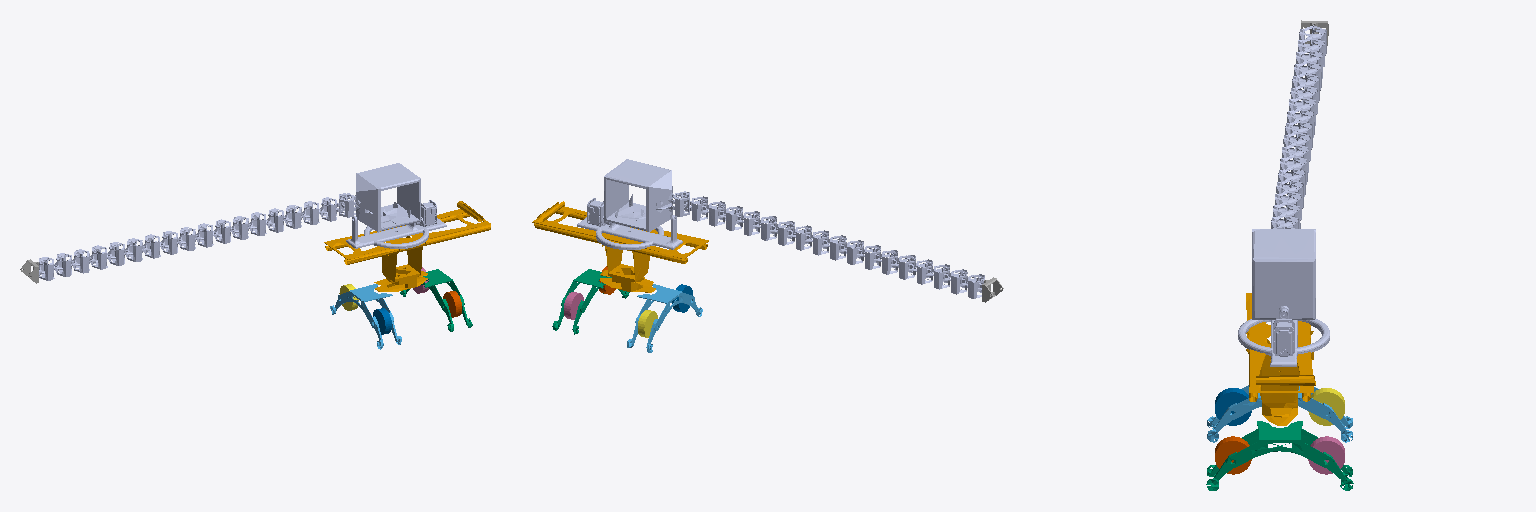
--- Facts derived from the render (not from the file) ---
The picture shows the robot from 3 angles, left to right: view 1: azimuth 30°, elevation 25°; view 2: azimuth 150°, elevation 25°; view 3: azimuth 270°, elevation 25°; orthographic projection.
Model prisma_snake with 31 links and 30 joints (20 revolute, 5 continuous, 5 fixed), rooted at uav_link, posed every joint at zero.
Links seen in each view (by area): view 1: uav_link, LMotor, LFrame, Rover_1, Rover_2; view 2: uav_link, LMotor, LFrame, Rover_1, Rover_2; view 3: LMotor, uav_link, Rover_2, LFrame, Rover_1, Wheel_sx_1, Wheel_dx_2, Wheel_sx_2, Wheel_dx_1.
Link boxes in pixels (<box>): uav_link: <box>324,201,490,291</box>; LMotor: <box>355,163,420,232</box>; LFrame: <box>346,200,446,248</box>; Rover_1: <box>330,284,401,349</box>; Rover_2: <box>400,269,472,331</box>; uav_link: <box>532,201,708,292</box>; LMotor: <box>604,159,672,231</box>; LFrame: <box>577,198,682,249</box>; Rover_1: <box>627,284,702,352</box>; Rover_2: <box>552,269,629,334</box>; LMotor: <box>1252,229,1315,319</box>; uav_link: <box>1246,293,1315,425</box>; Rover_2: <box>1206,421,1353,490</box>; LFrame: <box>1238,306,1329,366</box>; Rover_1: <box>1207,385,1352,442</box>; Wheel_sx_1: <box>1215,388,1251,425</box>; Wheel_dx_2: <box>1308,436,1344,474</box>; Wheel_sx_2: <box>1215,436,1251,474</box>; Wheel_dx_1: <box>1308,388,1344,425</box>.
Bounding box of the posed robot: 1.37 × 0.2765 × 0.4319 m (x, y, z).
Meshes: 10 distinct files referenced, 25 mesh visuals loaded (9 binary STL); not drawn: 1 (reference not matched to a file when rendering).

robot.urdf — prisma_snake:
<?xml version="1.0" encoding="utf-8"?>
<!-- =================================================================================== -->
<!-- |    This document was autogenerated by xacro from prisma_snake.xacro             | -->
<!-- |    EDITING THIS FILE BY HAND IS NOT RECOMMENDED                                 | -->
<!-- =================================================================================== -->
<!--Generates a urdf from the macro in kr120r2500pro_macro.xacro -->
<robot name="prisma_snake">
  <gazebo reference="camera_rgb_frame">
    <sensor name="$depth_camera" type="depth">
      <always_on>true</always_on>
      <update_rate>5.0</update_rate>
      <camera>
        <horizontal_fov>1.04</horizontal_fov>
        <!-- fov = filed of view 1.04-->
        <image>
          <format>L8</format>
          <width>320</width>
          <height>240</height>
        </image>
        <clip>
          <near>0.1</near>
          <far>2</far>
        </clip>
      </camera>
      <plugin filename="libgazebo_ros_openni_kinect.so" name="depth_camera_plugin">
        <alwaysOn>true</alwaysOn>
        <baseline>0.2</baseline>
        <updateRate>5.0</updateRate>
        <cameraName>depth_camera</cameraName>
        <imageTopicName>depth_camera/image_raw</imageTopicName>
        <cameraInfoTopicName>depth_camera/camera_info</cameraInfoTopicName>
        <depthImageTopicName>depth/disparity</depthImageTopicName>
        <depthImageCameraInfoTopicName>depth/camera_info</depthImageCameraInfoTopicName>
        <pointCloudTopicName>depth/points</pointCloudTopicName>
        <frameName>camera_rgb_optical_frame</frameName>
        <pointCloudCutoff>0.5</pointCloudCutoff>
        <pointCloudCutoffMax>3.0</pointCloudCutoffMax>
        <distortionK1>0.0</distortionK1>
        <distortionK2>0.0</distortionK2>
        <distortionK3>0.0</distortionK3>
        <distortionT1>0.0</distortionT1>
        <distortionT2>0.0</distortionT2>
      </plugin>
    </sensor>
  </gazebo>
  <!-- in kg-->
  <!-- in kg-->
  <!-- LINKS -->
  <!-- base link-->
  <!--
	<link name="world" />
 	-->
  <link name="uav_link">
    <inertial>
      <!--
		<origin rpy="0 0 0" xyz="0.2979303555193108 2.625110129346654e-07 0.31875747926595327"/>
		-->
      <origin rpy="0 0 0" xyz="0 0 0"/>
      <mass value="2.8"/>
      <inertia ixx="0.108" ixy="0.0" ixz="0.0" iyy="0.108" iyz="0.0" izz="0.108"/>
    </inertial>
    <visual>
      <origin rpy="0 0 0" xyz="0 0 0"/>
      <geometry>
        <mesh filename="package://prisma_snake_support_gazebo/meshes/drone_no_prop_no_sup_cu.stl" scale="0.0001 0.0001 0.0001"/>
      </geometry>
      <material name="silver"/>
    </visual>
    <collision>
      <origin rpy="0 0 0" xyz="0 0 0"/>
      <geometry>
        <mesh filename="package://prisma_snake_support_gazebo/meshes/drone_no_prop_no_sup_cu.stl" scale="0.0001 0.0001 0.0001"/>
      </geometry>
    </collision>
  </link>
  <link name="Rover_1">
    <inertial>
      <origin rpy="0 0 0" xyz="0 0 0"/>
      <mass value="1.2"/>
      <inertia ixx="0.01" ixy="0.0" ixz="0" iyy="0.01" iyz="0" izz="0.01"/>
    </inertial>
    <visual>
      <origin rpy="0 0 0" xyz="-0.2506 0.0 -0.1755"/>
      <geometry>
        <mesh filename="package://prisma_snake_support_gazebo/meshes/Rover_1_cu.stl" scale="0.001 0.001 0.001"/>
      </geometry>
      <material name="silver"/>
    </visual>
    <collision>
      <origin rpy="0 0 0" xyz="-0.2506 0.0 -0.1755"/>
      <geometry>
        <mesh filename="package://prisma_snake_support_gazebo/meshes/Rover_1_cu.stl" scale="0.001 0.001 0.001"/>
      </geometry>
      <contact_coefficients>
        <mu>0.1</mu>
        <kp>0.1</kp>
        <kd>0.1</kd>
      </contact_coefficients>
    </collision>
  </link>
  <link name="Rover_2">
    <inertial>
      <origin rpy="0 0 0" xyz="0 0 0"/>
      <mass value="1.2"/>
      <inertia ixx="0.01" ixy="0.0" ixz="0" iyy="0.01" iyz="0" izz="0.01"/>
    </inertial>
    <visual>
      <origin rpy="0 0 0" xyz="-0.3706 0.0 -0.1755"/>
      <geometry>
        <mesh filename="package://prisma_snake_support_gazebo/meshes/Rover_2_cu.stl" scale="0.001 0.001 0.001"/>
      </geometry>
      <material name="silver"/>
    </visual>
    <collision>
      <origin rpy="0 0 0" xyz="-0.3706 0.0 -0.1755"/>
      <geometry>
        <mesh filename="package://prisma_snake_support_gazebo/meshes/Rover_2_cu.stl" scale="0.001 0.001 0.001"/>
      </geometry>
      <!--
    <contact_coefficients>
          <mu>0.1</mu>
          <kp>0.1</kp>
          <kd>0.1</kd>
    </contact_coefficients>
 -->
    </collision>
  </link>
  <joint name="JointRoverFront" type="fixed">
    <origin rpy="0 0 0" xyz="-0.06 0.0 -0.07"/>
    <parent link="uav_link"/>
    <child link="Rover_1"/>
    <axis xyz="-0.0 -0.0 1.0"/>
  </joint>
  <joint name="JointRoverRetro" type="fixed">
    <origin rpy="0 0 0" xyz="0.06 0.0 -0.07"/>
    <parent link="uav_link"/>
    <child link="Rover_2"/>
    <axis xyz="-0.0 -0.0 1.0"/>
  </joint>
  <link name="Wheel_dx_1">
    <inertial>
      <origin rpy="1.57 0 1.57" xyz="-0.025 0.0 0"/>
      <mass value="1.35"/>
      <inertia ixx="0.0008" ixy="0.0" ixz="0.0" iyy="0.0008" iyz="0.0" izz="0.0008"/>
    </inertial>
    <visual>
      <origin rpy="1.57 0 1.57" xyz="-0.025 0.0 0"/>
      <geometry>
        <cylinder length="0.02" radius="0.035"/>
      </geometry>
      <material name="silver"/>
    </visual>
    <collision>
      <origin rpy="1.57 0 1.57" xyz="-0.025 0.0 0"/>
      <geometry>
        <cylinder length="0.02" radius="0.035"/>
      </geometry>
    </collision>
  </link>
  <joint name="JointWheel_F_sx" type="continuous">
    <limit effort="10000.0" lower="-1000" upper="1000" velocity="2000.0"/>
    <origin rpy="0 0 0" xyz="-0.024 0.087805 -0.043358"/>
    <parent link="Rover_1"/>
    <child link="Wheel_dx_1"/>
    <axis xyz="-1.0 -0.0 -0.0"/>
  </joint>
  <link name="Wheel_sx_1">
    <inertial>
      <origin rpy="1.57 0 1.57" xyz="-0.025 0.0 0"/>
      <mass value="1.35"/>
      <inertia ixx="0.0008" ixy="0.0" ixz="0.0" iyy="0.0008" iyz="0.0" izz="0.0008"/>
    </inertial>
    <visual>
      <origin rpy="1.57 0 1.57" xyz="-0.025 0.0 0"/>
      <geometry>
        <cylinder length="0.02" radius="0.035"/>
      </geometry>
      <material name="silver"/>
    </visual>
    <collision>
      <origin rpy="1.57 0 1.57" xyz="-0.025 0.0 0"/>
      <geometry>
        <cylinder length="0.02" radius="0.035"/>
      </geometry>
    </collision>
  </link>
  <joint name="JointWheel_F_dx" type="continuous">
    <limit effort="10000.0" lower="-1000" upper="1000" velocity="2000.0"/>
    <origin rpy="0 0 0" xyz="-0.024 -0.087805 -0.043358"/>
    <parent link="Rover_1"/>
    <child link="Wheel_sx_1"/>
    <axis xyz="-1.0 0.0 0.0"/>
  </joint>
  <link name="Wheel_sx_2">
    <inertial>
      <origin rpy="1.57 0 1.57" xyz="-0.025 0.0 0"/>
      <mass value="1.35"/>
      <inertia ixx="0.0008" ixy="0.0" ixz="0.0" iyy="0.0008" iyz="0.0" izz="0.0008"/>
    </inertial>
    <visual>
      <origin rpy="1.57 0 1.57" xyz="-0.025 0.0 0"/>
      <geometry>
        <cylinder length="0.02" radius="0.035"/>
      </geometry>
      <material name="silver"/>
    </visual>
    <collision>
      <origin rpy="1.57 0 1.57" xyz="-0.025 0.0 0"/>
      <geometry>
        <cylinder length="0.02" radius="0.035"/>
      </geometry>
    </collision>
  </link>
  <link name="Wheel_dx_2">
    <inertial>
      <origin rpy="0 0 0" xyz="-0.024031420359043487 -3.466334117102621e-07 4.034042055706122e-06"/>
      <mass value="1.35"/>
      <inertia ixx="0.0008" ixy="0.0" ixz="0.0" iyy="0.0008" iyz="0.0" izz="0.0008"/>
    </inertial>
    <visual>
      <origin rpy="1.57 0 1.57" xyz="-0.025 0.0 0"/>
      <geometry>
        <cylinder length="0.02" radius="0.035"/>
      </geometry>
      <material name="silver"/>
    </visual>
    <collision>
      <origin rpy="1.57 0 1.57" xyz="-0.02 0.0 0"/>
      <geometry>
        <cylinder length="0.02" radius="0.035"/>
      </geometry>
    </collision>
  </link>
  <joint name="JointWheel_R_dx" type="continuous">
    <limit effort="10000.0" lower="-1000" upper="1000" velocity="2000.0"/>
    <origin rpy="0 0 0" xyz="0.0722 0.087805 -0.043358"/>
    <parent link="Rover_2"/>
    <child link="Wheel_dx_2"/>
    <axis xyz="-1.0 -0.0 -0.0"/>
  </joint>
  <joint name="JointWheel_R_sx" type="continuous">
    <limit effort="10000.0" lower="-1000" upper="1000" velocity="2000.0"/>
    <origin rpy="0 0 0" xyz="0.0722 -0.087805 -0.043358"/>
    <parent link="Rover_2"/>
    <child link="Wheel_sx_2"/>
    <axis xyz="-1.0 0.0 0.0"/>
  </joint>
  <link name="base_footprint">
	</link>
  <joint name="base_footprint_joint" type="fixed">
    <origin rpy="0 0 0" xyz="0.0 0.0 -0.3"/>
    <parent link="uav_link"/>
    <child link="base_footprint"/>
  </joint>
  <link name="base_link">
    <inertial>
      <origin rpy="0 0 0" xyz="0.0 0.0 0.0"/>
      <mass value="0.01"/>
      <inertia ixx="0.01" ixy="0" ixz="0" iyy="0.01" iyz="0" izz="0.01"/>
    </inertial>
    <visual>
      <origin rpy="0 0 0" xyz="0 0 0"/>
      <geometry>
        <mesh filename="package://prisma_snake_support_gazebo/meshes/base_link.STL"/>
      </geometry>
      <material name="">
        <color rgba="0.792156862745098 0.819607843137255 0.933333333333333 1"/>
      </material>
    </visual>
    <collision>
      <origin rpy="0 0 0" xyz="0 0 0"/>
      <geometry>
        <mesh filename="package://prisma_snake_support_gazebo/meshes/base_link.STL"/>
      </geometry>
    </collision>
  </link>
  <joint name="base_footprint_base_link_joint" type="fixed">
    <origin rpy="3.1415 0.0 1.57" xyz="-0.05 0.0  0.455"/>
    <parent link="base_footprint"/>
    <child link="base_link"/>
  </joint>
  <!--
	<joint
    name="uav_joint"
    type="fixed">
    <origin
      xyz="-0.05 0.0  0.155"
      rpy="3.1415 0.0 1.57" />
    <parent
      link="uav_link" />
    <child
      link="base_link" />
   </joint>
-->
  <link name="LFrame">
    <inertial>
      <origin rpy="0 0 0" xyz="-0.248469510078303 -0.563614377028206 0.1"/>
      <mass value="0.05180236101214"/>
      <inertia ixx="0.0" ixy="0.0" ixz="0.0" iyy="0.0" iyz="0.0" izz="0.0"/>
    </inertial>
    <visual>
      <origin rpy="0 0 0" xyz="0 0 0"/>
      <geometry>
        <mesh filename="package://prisma_snake_support_gazebo/meshes/LFrame.STL"/>
      </geometry>
      <material name="">
        <color rgba="0.792156862745098 0.819607843137255 0.933333333333333 1"/>
      </material>
    </visual>
    <collision>
      <origin rpy="0 0 0" xyz="0 0 0"/>
      <geometry>
        <mesh filename="package://prisma_snake_support_gazebo/meshes/LFrame.STL"/>
      </geometry>
    </collision>
  </link>
  <joint name="JFrame" type="continuous">
    <origin rpy="-1.56968951302515 0 -1.57" xyz="0.00772821714225051 0.0399874234543578 0"/>
    <parent link="base_link"/>
    <child link="LFrame"/>
    <axis xyz="0 1 0"/>
    <limit effort="10" velocity="1.57"/>
  </joint>
  <link name="LMotor">
    <inertial>
      <origin rpy="0 0 0" xyz="-0.01 -0.04 -0.04"/>
      <mass value="0.254048214605011"/>
      <inertia ixx="0.001" ixy="0.0" ixz="0.0" iyy="0.001" iyz="0.0" izz="0.001"/>
    </inertial>
    <visual>
      <origin rpy="0 0 0" xyz="0 0 0"/>
      <geometry>
        <mesh filename="package://prisma_snake_support_gazebo/meshes/LMotor_cu.stl"/>
      </geometry>
      <material name="">
        <color rgba="0.792156862745098 0.819607843137255 0.933333333333333 1"/>
      </material>
    </visual>
    <collision>
      <origin rpy="0 0 0" xyz="0 0 0"/>
      <geometry>
        <mesh filename="package://prisma_snake_support_gazebo/meshes/LMotor_cu.stl"/>
      </geometry>
    </collision>
  </link>
  <joint name="JMotor" type="revolute">
    <origin rpy="1.57079632679539 1.56968077737062 -1.57079632679441" xyz="0 0 0"/>
    <parent link="LFrame"/>
    <child link="LMotor"/>
    <axis xyz="0 0 1"/>
    <limit effort="10" lower="-1.5707963267949" upper="1.5707963267949" velocity="1.57"/>
  </joint>
  <link name="L1">
    <inertial>
      <origin rpy="0 0 0" xyz="0.0258999036432844 0.0239999454766124 -1.32746300583741E-08"/>
      <mass value="0.0209796269968244"/>
      <inertia ixx="0.0" ixy="0.0" ixz="0.0" iyy="0.0" iyz="0.0" izz="0.0"/>
    </inertial>
    <visual>
      <origin rpy="0 0 0" xyz="0 0 0"/>
      <geometry>
        <mesh filename="package://prisma_snake_support_gazebo/meshes/L1.STL"/>
      </geometry>
      <material name="">
        <color rgba="0.792156862745098 0.819607843137255 0.933333333333333 1"/>
      </material>
    </visual>
    <collision>
      <origin rpy="0 0 0" xyz="0 0 0"/>
      <geometry>
        <mesh filename="package://prisma_snake_support_gazebo/meshes/L1.STL"/>
      </geometry>
    </collision>
  </link>
  <joint name="J1" type="fixed">
    <origin rpy="3.14047710416521 1.5707963267949 0" xyz="-2.00511340840651E-05 -0.0224477590929567 -0.127545001201243"/>
    <parent link="LMotor"/>
    <child link="L1"/>
  </joint>
  <link name="L2">
    <inertial>
      <origin rpy="0 0 0" xyz="0.0258999036432844 0.0239999454766124 -1.32746300583741E-08"/>
      <mass value="0.02"/>
      <inertia ixx="0.0006" ixy="0" ixz="0" iyy="0.0006" iyz="0" izz="0.0006"/>
    </inertial>
    <visual>
      <origin rpy="0 0 0" xyz="0 0 0"/>
      <geometry>
        <mesh filename="package://prisma_snake_support_gazebo/meshes/L2_cu.stl"/>
      </geometry>
      <material name="">
        <color rgba="0.792156862745098 0.819607843137255 0.933333333333333 1"/>
      </material>
    </visual>
    <collision>
      <origin rpy="0 0 0" xyz="0 0 0"/>
      <geometry>
        <mesh filename="package://prisma_snake_support_gazebo/meshes/L2_cu.stl"/>
      </geometry>
    </collision>
  </link>
  <joint name="J2" type="revolute">
    <origin rpy="-3.44613297765151E-16 -0.0531985841861763 6.16156416136494E-17" xyz="0.0524999999999857 0 0"/>
    <parent link="L1"/>
    <child link="L2"/>
    <axis xyz="0 1 0"/>
    <limit effort="10" lower="-0.993998967010373" upper="1.10039613538283" velocity="1.57"/>
  </joint>
  <link name="L3">
    <inertial>
      <origin rpy="0 0 0" xyz="0.0258999036432844 0.0239999454766124 -1.32746300583741E-08"/>
      <mass value="0.02"/>
      <inertia ixx="0.0006" ixy="0" ixz="0" iyy="0.0006" iyz="0" izz="0.0006"/>
    </inertial>
    <visual>
      <origin rpy="0 0 0" xyz="0 0 0"/>
      <geometry>
        <mesh filename="package://prisma_snake_support_gazebo/meshes/L2_cu.stl"/>
      </geometry>
      <material name="">
        <color rgba="0.792156862745098 0.819607843137255 0.933333333333333 1"/>
      </material>
    </visual>
    <collision>
      <origin rpy="0 0 0" xyz="0 0 0"/>
      <geometry>
        <mesh filename="package://prisma_snake_support_gazebo/meshes/L2_cu.stl"/>
      </geometry>
    </collision>
  </link>
  <joint name="J3" type="revolute">
    <origin rpy="-1.02483196605471E-15 -0.00927416170523615 1.94243648657628E-16" xyz="0.0524999999999941 0 0"/>
    <parent link="L2"/>
    <child link="L3"/>
    <axis xyz="0 1 0"/>
    <limit effort="10" lower="-1.03792338949131" upper="1.05647171290189" velocity="1.57"/>
  </joint>
  <link name="L4">
    <inertial>
      <origin rpy="0 0 0" xyz="0.0258999036432844 0.0239999454766124 -1.32746300583741E-08"/>
      <mass value="0.02"/>
      <inertia ixx="0.0006" ixy="0" ixz="0" iyy="0.0006" iyz="0" izz="0.0006"/>
    </inertial>
    <visual>
      <origin rpy="0 0 0" xyz="0 0 0"/>
      <geometry>
        <mesh filename="package://prisma_snake_support_gazebo/meshes/L2_cu.stl"/>
      </geometry>
      <material name="">
        <color rgba="0.792156862745098 0.819607843137255 0.933333333333333 1"/>
      </material>
    </visual>
    <collision>
      <origin rpy="0 0 0" xyz="0 0 0"/>
      <geometry>
        <mesh filename="package://prisma_snake_support_gazebo/meshes/L2_cu.stl"/>
      </geometry>
    </collision>
  </link>
  <joint name="J4" type="revolute">
    <origin rpy="6.82180638636158E-16 0.001360891873656 -1.28641645294869E-16" xyz="0.0524999999999841 0 0"/>
    <parent link="L3"/>
    <child link="L4"/>
    <axis xyz="0 1 0"/>
    <limit effort="10" lower="-1.04855844307021" upper="1.04583665932299" velocity="1.57"/>
  </joint>
  <link name="L5">
    <inertial>
      <origin rpy="0 0 0" xyz="0.0258999036432844 0.0239999454766124 -1.32746300583741E-08"/>
      <mass value="0.02"/>
      <inertia ixx="0.0006" ixy="0" ixz="0" iyy="0.0006" iyz="0" izz="0.0006"/>
    </inertial>
    <visual>
      <origin rpy="0 0 0" xyz="0 0 0"/>
      <geometry>
        <mesh filename="package://prisma_snake_support_gazebo/meshes/L2_cu.stl"/>
      </geometry>
      <material name="">
        <color rgba="0.792156862745098 0.819607843137255 0.933333333333333 1"/>
      </material>
    </visual>
    <collision>
      <origin rpy="0 0 0" xyz="0 0 0"/>
      <geometry>
        <mesh filename="package://prisma_snake_support_gazebo/meshes/L2_cu.stl"/>
      </geometry>
    </collision>
  </link>
  <joint name="J5" type="revolute">
    <origin rpy="6.8174634160447E-16 -0.000213553712368799 -1.28642001526135E-16" xyz="0.052499999999994 0 0"/>
    <parent link="L4"/>
    <child link="L5"/>
    <axis xyz="0 1 0"/>
    <limit effort="10" lower="-1.04698399748418" upper="1.04741110490902" velocity="1.57"/>
  </joint>
  <link name="L6">
    <inertial>
      <origin rpy="0 0 0" xyz="0.0258999036432844 0.0239999454766124 -1.32746300583741E-08"/>
      <mass value="0.02"/>
      <inertia ixx="0.0006" ixy="0" ixz="0" iyy="0.0006" iyz="0" izz="0.0006"/>
    </inertial>
    <visual>
      <origin rpy="0 0 0" xyz="0 0 0"/>
      <geometry>
        <mesh filename="package://prisma_snake_support_gazebo/meshes/L2_cu.stl"/>
      </geometry>
      <material name="">
        <color rgba="0.792156862745098 0.819607843137255 0.933333333333333 1"/>
      </material>
    </visual>
    <collision>
      <origin rpy="0 0 0" xyz="0 0 0"/>
      <geometry>
        <mesh filename="package://prisma_snake_support_gazebo/meshes/L2_cu.stl"/>
      </geometry>
    </collision>
  </link>
  <joint name="J6" type="revolute">
    <origin rpy="-6.82180007091541E-16 2.19047611694254E-05 1.28694797904904E-16" xyz="0.0524999999999838 0 0"/>
    <parent link="L5"/>
    <child link="L6"/>
    <axis xyz="0 1 0"/>
    <limit effort="10" lower="-1.04721945595772" upper="1.04717564643548" velocity="1.57"/>
  </joint>
  <link name="L7">
    <inertial>
      <origin rpy="0 0 0" xyz="0.0258999036432844 0.0239999454766124 -1.32746300583741E-08"/>
      <mass value="0.02"/>
      <inertia ixx="0.0006" ixy="0" ixz="0" iyy="0.0006" iyz="0" izz="0.0006"/>
    </inertial>
    <visual>
      <origin rpy="0 0 0" xyz="0 0 0"/>
      <geometry>
        <mesh filename="package://prisma_snake_support_gazebo/meshes/L2_cu.stl"/>
      </geometry>
      <material name="">
        <color rgba="0.792156862745098 0.819607843137255 0.933333333333333 1"/>
      </material>
    </visual>
    <collision>
      <origin rpy="0 0 0" xyz="0 0 0"/>
      <geometry>
        <mesh filename="package://prisma_snake_support_gazebo/meshes/L2_cu.stl"/>
      </geometry>
    </collision>
  </link>
  <joint name="J7" type="revolute">
    <origin rpy="4.33680868995059E-19 -1.98793423728103E-06 -8.31958655934646E-20" xyz="0.0524999999999939 0 0"/>
    <parent link="L6"/>
    <child link="L7"/>
    <axis xyz="0 1 0"/>
    <limit effort="10" lower="-1.04719556326231" upper="1.04719953913089" velocity="1.57"/>
  </joint>
  <link name="L8">
    <inertial>
      <origin rpy="0 0 0" xyz="0.0258999036432844 0.0239999454766124 -1.32746300583741E-08"/>
      <mass value="0.02"/>
      <inertia ixx="0.0006" ixy="0" ixz="0" iyy="0.0006" iyz="0" izz="0.0006"/>
    </inertial>
    <visual>
      <origin rpy="0 0 0" xyz="0 0 0"/>
      <geometry>
        <mesh filename="package://prisma_snake_support_gazebo/meshes/L2_cu.stl"/>
      </geometry>
      <material name="">
        <color rgba="0.792156862745098 0.819607843137255 0.933333333333333 1"/>
      </material>
    </visual>
    <collision>
      <origin rpy="0 0 0" xyz="0 0 0"/>
      <geometry>
        <mesh filename="package://prisma_snake_support_gazebo/meshes/L2_cu.stl"/>
      </geometry>
    </collision>
  </link>
  <joint name="J8" type="revolute">
    <origin rpy="0 1.54454299849949E-07 2.66348794243175E-20" xyz="0.0524999999999843 0 0"/>
    <parent link="L7"/>
    <child link="L8"/>
    <axis xyz="0 1 0"/>
    <limit effort="10" lower="-1.04719770565085" upper="1.04719739674235" velocity="1.57"/>
  </joint>
  <link name="L9">
    <inertial>
      <origin rpy="0 0 0" xyz="0.0258999036432844 0.0239999454766124 -1.32746300583741E-08"/>
      <mass value="0.02"/>
      <inertia ixx="0.0006" ixy="0" ixz="0" iyy="0.0006" iyz="0" izz="0.0006"/>
    </inertial>
    <visual>
      <origin rpy="0 0 0" xyz="0 0 0"/>
      <geometry>
        <mesh filename="package://prisma_snake_support_gazebo/meshes/L2_cu.stl"/>
      </geometry>
      <material name="">
        <color rgba="0.792156862745098 0.819607843137255 0.933333333333333 1"/>
      </material>
    </visual>
    <collision>
      <origin rpy="0 0 0" xyz="0 0 0"/>
      <geometry>
        <mesh filename="package://prisma_snake_support_gazebo/meshes/L2_cu.stl"/>
      </geometry>
    </collision>
  </link>
  <joint name="J9" type="revolute">
    <origin rpy="-4.33680868994202E-19 -1.08901276885121E-08 1.07479867363426E-19" xyz="0.0524999999999939 0 0"/>
    <parent link="L8"/>
    <child link="L9"/>
    <axis xyz="0 1 0"/>
    <limit effort="10" lower="-1.04719754030642" upper="1.04719756208678" velocity="1.57"/>
  </joint>
  <link name="L10">
    <inertial>
      <origin rpy="0 0 0" xyz="0.0258999036432844 0.0239999454766124 -1.32746300583741E-08"/>
      <mass value="0.02"/>
      <inertia ixx="0.0006" ixy="0" ixz="0" iyy="0.0006" iyz="0" izz="0.0006"/>
    </inertial>
    <visual>
      <origin rpy="0 0 0" xyz="0 0 0"/>
      <geometry>
        <mesh filename="package://prisma_snake_support_gazebo/meshes/L2_cu.stl"/>
      </geometry>
      <material name="">
        <color rgba="0.792156862745098 0.819607843137255 0.933333333333333 1"/>
      </material>
    </visual>
    <collision>
      <origin rpy="0 0 0" xyz="0 0 0"/>
      <geometry>
        <mesh filename="package://prisma_snake_support_gazebo/meshes/L2_cu.stl"/>
      </geometry>
    </collision>
  </link>
  <joint name="J10" type="revolute">
    <origin rpy="4.33680868994202E-19 6.92822493819634E-10 -1.62630325872826E-19" xyz="0.0524999999999842 0 0"/>
    <parent link="L9"/>
    <child link="L10"/>
    <axis xyz="0 1 0"/>
    <limit effort="10" lower="-1.04719755188937" upper="1.04719755050383" velocity="1.57"/>
  </joint>
  <link name="L11">
    <inertial>
      <origin rpy="0 0 0" xyz="0.0258999036432844 0.0239999454766124 -1.32746300583741E-08"/>
      <mass value="0.02"/>
      <inertia ixx="0.0006" ixy="0" ixz="0" iyy="0.0006" iyz="0" izz="0.0006"/>
    </inertial>
    <visual>
      <origin rpy="0 0 0" xyz="0 0 0"/>
      <geometry>
        <mesh filename="package://prisma_snake_support_gazebo/meshes/L2_cu.stl"/>
      </geometry>
      <material name="">
        <color rgba="0.792156862745098 0.819607843137255 0.933333333333333 1"/>
      </material>
    </visual>
    <collision>
      <origin rpy="0 0 0" xyz="0 0 0"/>
      <geometry>
        <mesh filename="package://prisma_snake_support_gazebo/meshes/L2_cu.stl"/>
      </geometry>
    </collision>
  </link>
  <joint name="J11" type="revolute">
    <origin rpy="-4.33680868994202E-19 -3.65752428344024E-11 7.99046381186225E-20" xyz="0.0524999999999936 0 0"/>
    <parent link="L10"/>
    <child link="L11"/>
    <axis xyz="0 1 0"/>
    <limit effort="10" lower="-1.04719755115998" upper="1.04719755123322" velocity="1.57"/>
  </joint>
  <link name="L12">
    <inertial>
      <origin rpy="0 0 0" xyz="0.0258999036432844 0.0239999454766124 -1.32746300583741E-08"/>
      <mass value="0.02"/>
      <inertia ixx="0.0006" ixy="0" ixz="0" iyy="0.0006" iyz="0" izz="0.0006"/>
    </inertial>
    <visual>
      <origin rpy="0 0 0" xyz="0 0 0"/>
      <geometry>
        <mesh filename="package://prisma_snake_support_gazebo/meshes/L2_cu.stl"/>
      </geometry>
      <material name="">
        <color rgba="0.792156862745098 0.819607843137255 0.933333333333333 1"/>
      </material>
    </visual>
    <collision>
      <origin rpy="0 0 0" xyz="0 0 0"/>
      <geometry>
        <mesh filename="package://prisma_snake_support_gazebo/meshes/L2_cu.stl"/>
      </geometry>
    </collision>
  </link>
  <joint name="J12" type="revolute">
    <origin rpy="1.36392633298676E-15 8.79296635503124E-14 -2.57336325989313E-16" xyz="0.0524999999999876 0 0"/>
    <parent link="L11"/>
    <child link="L12"/>
    <axis xyz="0 1 0"/>
    <limit effort="10" lower="-1.04719755119664" upper="1.04719755119656" velocity="1.57"/>
  </joint>
  <link name="L13">
    <inertial>
      <origin rpy="0 0 0" xyz="0.0258999036432844 0.0239999454766124 -1.32746300583741E-08"/>
      <mass value="0.02"/>
      <inertia ixx="0.0006" ixy="0" ixz="0" iyy="0.0006" iyz="0" izz="0.0006"/>
    </inertial>
    <visual>
      <origin rpy="0 0 0" xyz="0 0 0"/>
      <geometry>
        <mesh filename="package://prisma_snake_support_gazebo/meshes/L2_cu.stl"/>
      </geometry>
      <material name="">
        <color rgba="0.792156862745098 0.819607843137255 0.933333333333333 1"/>
      </material>
    </visual>
    <collision>
      <origin rpy="0 0 0" xyz="0 0 0"/>
      <geometry>
        <mesh filename="package://prisma_snake_support_gazebo/meshes/L2_cu.stl"/>
      </geometry>
    </collision>
  </link>
  <joint name="J13" type="revolute">
    <origin rpy="0 -8.66251514963778E-14 -9.40349878526897E-22" xyz="0.0524999999999936 0 0"/>
    <parent link="L12"/>
    <child link="L13"/>
    <axis xyz="0 1 0"/>
    <limit effort="10" lower="-1.04719755119646" upper="1.04719755119674" velocity="1.57"/>
  </joint>
  <link name="L14">
    <inertial>
      <origin rpy="0 0 0" xyz="0.0258999036432844 0.0239999454766124 -1.32746300583741E-08"/>
      <mass value="0.02"/>
      <inertia ixx="0.0006" ixy="0" ixz="0" iyy="0.0006" iyz="0" izz="0.0006"/>
    </inertial>
    <visual>
      <origin rpy="0 0 0" xyz="0 0 0"/>
      <geometry>
        <mesh filename="package://prisma_snake_support_gazebo/meshes/L2_cu.stl"/>
      </geometry>
      <material name="">
        <color rgba="0.792156862745098 0.819607843137255 0.933333333333333 1"/>
      </material>
    </visual>
    <collision>
      <origin rpy="0 0 0" xyz="0 0 0"/>
      <geometry>
        <mesh filename="package://prisma_snake_support_gazebo/meshes/L2_cu.stl"/>
      </geometry>
    </collision>
  </link>
  <joint name="J14" type="revolute">
    <origin rpy="2.16840434497101E-19 8.65973959207622E-14 -2.71050543121376E-20" xyz="0.0524999999999842 0 0"/>
    <parent link="L13"/>
    <child link="L14"/>
    <axis xyz="0 1 0"/>
    <limit effort="10" lower="-1.04719755119664" upper="1.04719755119656" velocity="1.57"/>
  </joint>
  <link name="L15">
    <inertial>
      <origin rpy="0 0 0" xyz="0.0258999036432844 0.0239999454766124 -1.32746300583741E-08"/>
      <mass value="0.02"/>
      <inertia ixx="0.0006" ixy="0" ixz="0" iyy="0.0006" iyz="0" izz="0.0006"/>
    </inertial>
    <visual>
      <origin rpy="0 0 0" xyz="0 0 0"/>
      <geometry>
        <mesh filename="package://prisma_snake_support_gazebo/meshes/L2_cu.stl"/>
      </geometry>
      <material name="">
        <color rgba="0.792156862745098 0.819607843137255 0.933333333333333 1"/>
      </material>
    </visual>
    <collision>
      <origin rpy="0 0 0" xyz="0 0 0"/>
      <geometry>
        <mesh filename="package://prisma_snake_support_gazebo/meshes/L2_cu.stl"/>
      </geometry>
    </collision>
  </link>
  <joint name="J15" type="revolute">
    <origin rpy="0 -8.93729534823251E-14 -5.51504585028022E-20" xyz="0.0524999999999939 0 0"/>
    <parent link="L14"/>
    <child link="L15"/>
    <axis xyz="0 1 0"/>
    <limit effort="10" lower="-1.04719755119646" upper="1.04719755119674" velocity="1.57"/>
  </joint>
  <link name="L16">
    <inertial>
      <origin rpy="0 0 0" xyz="0.0258999036432844 0.0239999454766124 -1.32746300583741E-08"/>
      <mass value="0.02"/>
      <inertia ixx="0.0006" ixy="0" ixz="0" iyy="0.0006" iyz="0" izz="0.0006"/>
    </inertial>
    <visual>
      <origin rpy="0 0 0" xyz="0 0 0"/>
      <geometry>
        <mesh filename="package://prisma_snake_support_gazebo/meshes/L2_cu.stl"/>
      </geometry>
      <material name="">
        <color rgba="0.792156862745098 0.819607843137255 0.933333333333333 1"/>
      </material>
    </visual>
    <collision>
      <origin rpy="0 0 0" xyz="0 0 0"/>
      <geometry>
        <mesh filename="package://prisma_snake_support_gazebo/meshes/L2_cu.stl"/>
      </geometry>
    </collision>
  </link>
  <joint name="J16" type="revolute">
    <origin rpy="4.33680868994202E-19 8.93174423310938E-14 -5.51504585028012E-20" xyz="0.0524999999999841 0 0"/>
    <parent link="L15"/>
    <child link="L16"/>
    <axis xyz="0 1 0"/>
    <limit effort="10" lower="-1.04719755119664" upper="1.04719755119656" velocity="1.57"/>
  </joint>
  <link name="L17">
    <inertial>
      <origin rpy="0 0 0" xyz="0.0258999036432844 0.0239999454766124 -1.32746300583741E-08"/>
      <mass value="0.02"/>
      <inertia ixx="0.0006" ixy="0" ixz="0" iyy="0.0006" iyz="0" izz="0.0006"/>
    </inertial>
    <visual>
      <origin rpy="0 0 0" xyz="0 0 0"/>
      <geometry>
        <mesh filename="package://prisma_snake_support_gazebo/meshes/L2_cu.stl"/>
      </geometry>
      <material name="">
        <color rgba="0.792156862745098 0.819607843137255 0.933333333333333 1"/>
      </material>
    </visual>
    <collision>
      <origin rpy="0 0 0" xyz="0 0 0"/>
      <geometry>
        <mesh filename="package://prisma_snake_support_gazebo/meshes/L2_cu.stl"/>
      </geometry>
    </collision>
  </link>
  <joint name="J17" type="revolute">
    <origin rpy="-4.33680868994202E-19 -8.66251514963778E-14 8.03748130578859E-20" xyz="0.0524999999999943 0 0"/>
    <parent link="L16"/>
    <child link="L17"/>
    <axis xyz="0 1 0"/>
    <limit effort="10" lower="-1.04719755119646" upper="1.04719755119674" velocity="1.57"/>
  </joint>
  <link name="L18">
    <inertial>
      <origin rpy="0 0 0" xyz="0.0258999036432844 0.0239999454766124 -1.32746300583741E-08"/>
      <mass value="0.02"/>
      <inertia ixx="0.0006" ixy="0" ixz="0" iyy="0.0006" iyz="0" izz="0.0006"/>
    </inertial>
    <visual>
      <origin rpy="0 0 0" xyz="0 0 0"/>
      <geometry>
        <mesh filename="package://prisma_snake_support_gazebo/meshes/L2_cu.stl"/>
      </geometry>
      <material name="">
        <color rgba="0.792156862745098 0.819607843137255 0.933333333333333 1"/>
      </material>
    </visual>
    <collision>
      <origin rpy="0 0 0" xyz="0 0 0"/>
      <geometry>
        <mesh filename="package://prisma_snake_support_gazebo/meshes/L2_cu.stl"/>
      </geometry>
    </collision>
  </link>
  <joint name="J18" type="revolute">
    <origin rpy="2.16840434497101E-19 8.65973959207622E-14 -2.71050543121376E-20" xyz="0.052499999999985 0 0"/>
    <parent link="L17"/>
    <child link="L18"/>
    <axis xyz="0 1 0"/>
    <limit effort="10" lower="-1.04719755119664" upper="1.04719755119656" velocity="1.57"/>
  </joint>
  <link name="L20">
    <inertial>
      <origin rpy="0 0 0" xyz="0.0258999036432844 0.0239999454766124 -1.32746300583741E-08"/>
      <mass value="0.02"/>
      <inertia ixx="0.0006" ixy="0" ixz="0" iyy="0.0006" iyz="0" izz="0.0006"/>
    </inertial>
    <visual>
      <origin rpy="0 0 0" xyz="0 0 0"/>
      <geometry>
        <mesh filename="package://prisma_snake_support_gazebo/meshes/L20.STL"/>
      </geometry>
      <material name="">
        <color rgba="0.698039215686274 0.698039215686274 0.698039215686274 1"/>
      </material>
    </visual>
    <collision>
      <origin rpy="0 0 0" xyz="0 0 0"/>
      <geometry>
        <mesh filename="package://prisma_snake_support_gazebo/meshes/L20.STL"/>
      </geometry>
    </collision>
  </link>
  <joint name="J20" type="revolute">
    <origin rpy="2.99006320856337 -1.57079631189374 -2.99028148340991" xyz="0.0524999999999842 0 0"/>
    <parent link="L18"/>
    <child link="L20"/>
    <axis xyz="0 1 0"/>
    <limit effort="10" lower="-1.07730497228435" upper="1.01709013010885" velocity="1.57"/>
  </joint>
  <!--
		xyz="0.000801942613792017 3.73115540755475E-08 -0.00846677202059798"
		-->
  <link name="Probe">
    <inertial>
      <origin rpy="0 0 0" xyz="0.0 0 0"/>
      <mass value="0.02"/>
      <inertia ixx="0.0006" ixy="0" ixz="0" iyy="0.0006" iyz="0" izz="0.0006"/>
    </inertial>
    <visual>
      <origin rpy="0 0 0" xyz="0 0 0"/>
      <geometry>
        <mesh filename="package://prisma_snake_support_gazebo/meshes/Probe.STL"/>
      </geometry>
      <material name="">
        <color rgba="0.792156862745098 0.819607843137255 0.933333333333333 1"/>
      </material>
    </visual>
    <collision>
      <origin rpy="0 0 0" xyz="0 0 0"/>
      <geometry>
        <mesh filename="package://prisma_snake_support_gazebo/meshes/Probe.STL"/>
      </geometry>
    </collision>
  </link>
  <joint name="Probe" type="revolute">
    <origin rpy="4.32434036495843E-16 2.18991491607312E-14 2.74150527112696E-15" xyz="0 0.0239999402663998 -0.0329999999999961"/>
    <parent link="L20"/>
    <child link="Probe"/>
    <axis xyz="1 0 0"/>
    <limit effort="10" lower="-1.39626340159547" upper="1.39626340159547" velocity="1.57"/>
  </joint>
  <transmission name="tran1">
    <type>transmission_interface/SimpleTransmission</type>
    <joint name="JFrame">
      <hardwareInterface>hardware_interface/PositionJointInterface</hardwareInterface>
    </joint>
    <actuator name="motor1">
      <mechanicalReduction>1</mechanicalReduction>
    </actuator>
  </transmission>
  <transmission name="tran1">
    <type>transmission_interface/SimpleTransmission</type>
    <joint name="JMotor">
      <hardwareInterface>hardware_interface/PositionJointInterface</hardwareInterface>
    </joint>
    <actuator name="motor1">
      <mechanicalReduction>1</mechanicalReduction>
    </actuator>
  </transmission>
  <transmission name="tran1">
    <type>transmission_interface/SimpleTransmission</type>
    <joint name="J2">
      <hardwareInterface>hardware_interface/PositionJointInterface</hardwareInterface>
    </joint>
    <actuator name="motor1">
      <mechanicalReduction>1</mechanicalReduction>
    </actuator>
  </transmission>
  <transmission name="tran1">
    <type>transmission_interface/SimpleTransmission</type>
    <joint name="J3">
      <hardwareInterface>hardware_interface/PositionJointInterface</hardwareInterface>
    </joint>
    <actuator name="motor1">
      <mechanicalReduction>1</mechanicalReduction>
    </actuator>
  </transmission>
  <transmission name="tran1">
    <type>transmission_interface/SimpleTransmission</type>
    <joint name="J4">
      <hardwareInterface>hardware_interface/PositionJointInterface</hardwareInterface>
    </joint>
    <actuator name="motor1">
      <mechanicalReduction>1</mechanicalReduction>
    </actuator>
  </transmission>
  <transmission name="tran1">
    <type>transmission_interface/SimpleTransmission</type>
    <joint name="J5">
      <hardwareInterface>hardware_interface/PositionJointInterface</hardwareInterface>
    </joint>
    <actuator name="motor1">
      <mechanicalReduction>1</mechanicalReduction>
    </actuator>
  </transmission>
  <transmission name="tran1">
    <type>transmission_interface/SimpleTransmission</type>
    <joint name="J6">
      <hardwareInterface>hardware_interface/PositionJointInterface</hardwareInterface>
    </joint>
    <actuator name="motor1">
      <mechanicalReduction>1</mechanicalReduction>
    </actuator>
  </transmission>
  <transmission name="tran1">
    <type>transmission_interface/SimpleTransmission</type>
    <joint name="J7">
      <hardwareInterface>hardware_interface/PositionJointInterface</hardwareInterface>
    </joint>
    <actuator name="motor1">
      <mechanicalReduction>1</mechanicalReduction>
    </actuator>
  </transmission>
  <transmission name="tran1">
    <type>transmission_interface/SimpleTransmission</type>
    <joint name="J8">
      <hardwareInterface>hardware_interface/PositionJointInterface</hardwareInterface>
    </joint>
    <actuator name="motor1">
      <mechanicalReduction>1</mechanicalReduction>
    </actuator>
  </transmission>
  <transmission name="tran1">
    <type>transmission_interface/SimpleTransmission</type>
    <joint name="J9">
      <hardwareInterface>hardware_interface/PositionJointInterface</hardwareInterface>
    </joint>
    <actuator name="motor1">
      <mechanicalReduction>1</mechanicalReduction>
    </actuator>
  </transmission>
  <transmission name="tran1">
    <type>transmission_interface/SimpleTransmission</type>
    <joint name="J10">
      <hardwareInterface>hardware_interface/PositionJointInterface</hardwareInterface>
    </joint>
    <actuator name="motor1">
      <mechanicalReduction>1</mechanicalReduction>
    </actuator>
  </transmission>
  <transmission name="tran1">
    <type>transmission_interface/SimpleTransmission</type>
    <joint name="J11">
      <hardwareInterface>hardware_interface/PositionJointInterface</hardwareInterface>
    </joint>
    <actuator name="motor1">
      <mechanicalReduction>1</mechanicalReduction>
    </actuator>
  </transmission>
  <transmission name="tran1">
    <type>transmission_interface/SimpleTransmission</type>
    <joint name="J12">
      <hardwareInterface>hardware_interface/PositionJointInterface</hardwareInterface>
    </joint>
    <actuator name="motor1">
      <mechanicalReduction>1</mechanicalReduction>
    </actuator>
  </transmission>
  <transmission name="tran1">
    <type>transmission_interface/SimpleTransmission</type>
    <joint name="J13">
      <hardwareInterface>hardware_interface/PositionJointInterface</hardwareInterface>
    </joint>
    <actuator name="motor1">
      <mechanicalReduction>1</mechanicalReduction>
    </actuator>
  </transmission>
  <transmission name="tran1">
    <type>transmission_interface/SimpleTransmission</type>
    <joint name="J14">
      <hardwareInterface>hardware_interface/PositionJointInterface</hardwareInterface>
    </joint>
    <actuator name="motor1">
      <mechanicalReduction>1</mechanicalReduction>
    </actuator>
  </transmission>
  <transmission name="tran1">
    <type>transmission_interface/SimpleTransmission</type>
    <joint name="J15">
      <hardwareInterface>hardware_interface/PositionJointInterface</hardwareInterface>
    </joint>
    <actuator name="motor1">
      <mechanicalReduction>1</mechanicalReduction>
    </actuator>
  </transmission>
  <transmission name="tran1">
    <type>transmission_interface/SimpleTransmission</type>
    <joint name="J16">
      <hardwareInterface>hardware_interface/PositionJointInterface</hardwareInterface>
    </joint>
    <actuator name="motor1">
      <mechanicalReduction>1</mechanicalReduction>
    </actuator>
  </transmission>
  <transmission name="tran1">
    <type>transmission_interface/SimpleTransmission</type>
    <joint name="J17">
      <hardwareInterface>hardware_interface/PositionJointInterface</hardwareInterface>
    </joint>
    <actuator name="motor1">
      <mechanicalReduction>1</mechanicalReduction>
    </actuator>
  </transmission>
  <transmission name="tran1">
    <type>transmission_interface/SimpleTransmission</type>
    <joint name="J18">
      <hardwareInterface>hardware_interface/PositionJointInterface</hardwareInterface>
    </joint>
    <actuator name="motor1">
      <mechanicalReduction>1</mechanicalReduction>
    </actuator>
  </transmission>
  <transmission name="tran1">
    <type>transmission_interface/SimpleTransmission</type>
    <joint name="J20">
      <hardwareInterface>hardware_interface/PositionJointInterface</hardwareInterface>
    </joint>
    <actuator name="motor1">
      <mechanicalReduction>1</mechanicalReduction>
    </actuator>
  </transmission>
  <transmission name="tran1">
    <type>transmission_interface/SimpleTransmission</type>
    <joint name="Probe">
      <hardwareInterface>hardware_interface/PositionJointInterface</hardwareInterface>
    </joint>
    <actuator name="motor1">
      <mechanicalReduction>1</mechanicalReduction>
    </actuator>
  </transmission>
  <transmission name="tran2">
    <type>transmission_interface/SimpleTransmission</type>
    <joint name="JointWheel_F_dx">
      <hardwareInterface>hardware_interface/EffortJointInterface</hardwareInterface>
    </joint>
    <actuator name="motor1">
      <hardwareInterface>hardware_interface/EffortJointInterface</hardwareInterface>
      <mechanicalReduction>1</mechanicalReduction>
    </actuator>
  </transmission>
  <transmission name="tran2">
    <type>transmission_interface/SimpleTransmission</type>
    <joint name="JointWheel_F_sx">
      <hardwareInterface>hardware_interface/EffortJointInterface</hardwareInterface>
    </joint>
    <actuator name="motor1">
      <hardwareInterface>hardware_interface/EffortJointInterface</hardwareInterface>
      <mechanicalReduction>1</mechanicalReduction>
    </actuator>
  </transmission>
  <transmission name="tran2">
    <type>transmission_interface/SimpleTransmission</type>
    <joint name="JointWheel_R_dx">
      <hardwareInterface>hardware_interface/EffortJointInterface</hardwareInterface>
    </joint>
    <actuator name="motor1">
      <hardwareInterface>hardware_interface/EffortJointInterface</hardwareInterface>
      <mechanicalReduction>1</mechanicalReduction>
    </actuator>
  </transmission>
  <transmission name="tran2">
    <type>transmission_interface/SimpleTransmission</type>
    <joint name="JointWheel_R_sx">
      <hardwareInterface>hardware_interface/EffortJointInterface</hardwareInterface>
    </joint>
    <actuator name="motor1">
      <hardwareInterface>hardware_interface/EffortJointInterface</hardwareInterface>
      <mechanicalReduction>1</mechanicalReduction>
    </actuator>
  </transmission>
  <!--  <link name="depth_sensor_link">-->
  <!--    <visual>-->
  <!--      <origin xyz="0.0 0 0.0" rpy="0 0 0"/>-->
  <!--      -->
  <!--      <geometry>-->
  <!--        <box size="0.01 0.03 0.01"/>-->
  <!--      </geometry>-->
  <!--    <material name="orange"/>-->
  <!--    </visual>-->
  <!--  </link>-->
  <!--  <joint name="depth_sensor_joint" type="fixed">-->
  <!--		<parent link="L20" />-->
  <!--		<child link="depth_sensor_link" />-->
  <!--		<origin xyz="0.1 0.03 0.05" rpy="0 1.57 0"/>-->
  <!--	</joint>-->
  <!--	<xacro:include filename="$(find prisma_snake_support_gazebo)/urdf/kinect_macro.xacro" />-->
  <!--	<xacro:kinect parent="depth_sensor_link">-->
  <!--	</xacro:kinect>-->
  <gazebo>
    <plugin filename="libgazebo_ros_control.so" name="gazebo_ros_control">
      <robotNamespace>/prisma_snake</robotNamespace>
    </plugin>
  </gazebo>
</robot>
